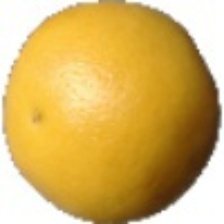grapes: (20, 47, 221, 195)
